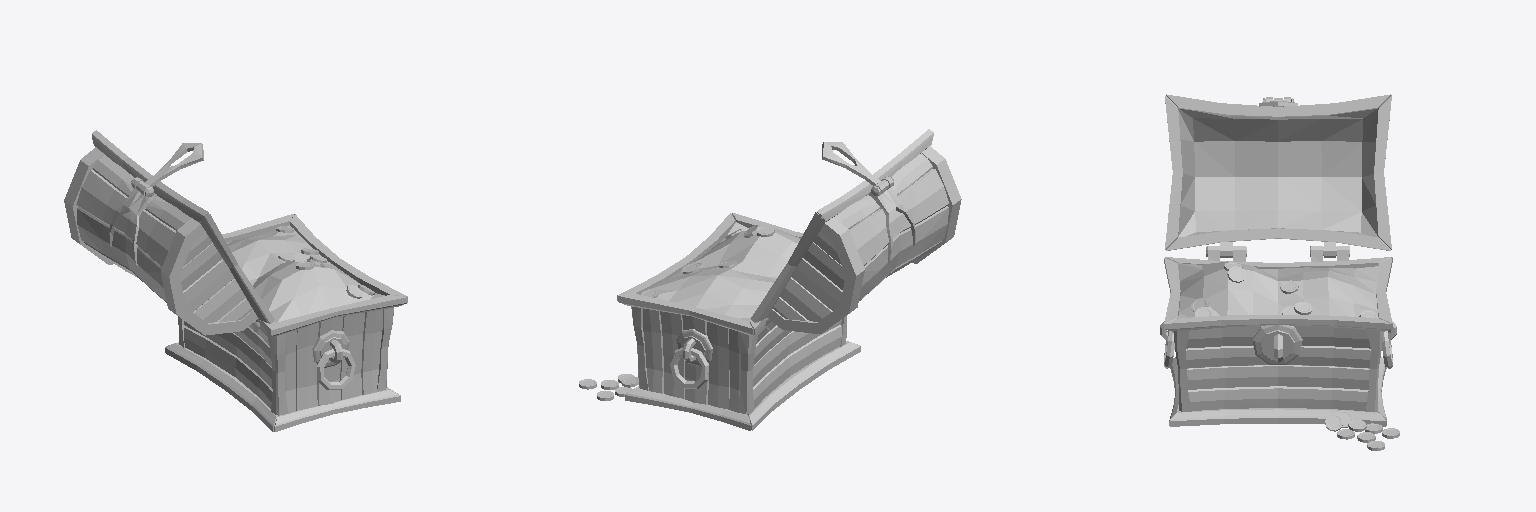
Rendered from treasure.obj.
The picture shows the model from 3 angles: view 1: azimuth 30°, elevation 25°; view 2: azimuth 150°, elevation 25°; view 3: azimuth 270°, elevation 25°; orthographic projection.
Parts seen in each view (by area): view 1: treasure_ches, treasure_ches,001; view 2: treasure_ches, treasure_ches,001; view 3: treasure_ches, treasure_ches,001.
Boxes of the visible parts, <box> form: treasure_ches: <box>165,214,407,431</box>; treasure_ches,001: <box>64,130,274,335</box>; treasure_ches: <box>579,213,860,430</box>; treasure_ches,001: <box>751,129,961,333</box>; treasure_ches: <box>1160,246,1399,450</box>; treasure_ches,001: <box>1165,94,1391,257</box>.
Bounding box in the file's own units: 6.2 × 5.37 × 4.61.